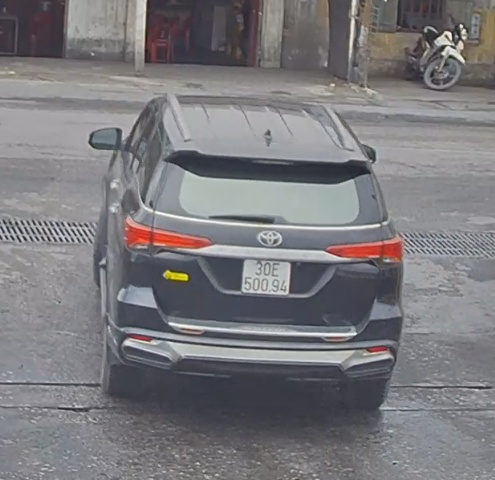vehicle plate: (240, 254, 292, 298)
